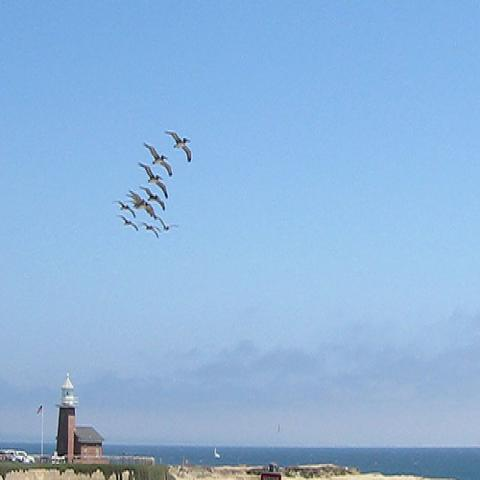car: (11, 450, 35, 464)
truck: (0, 448, 25, 462)
